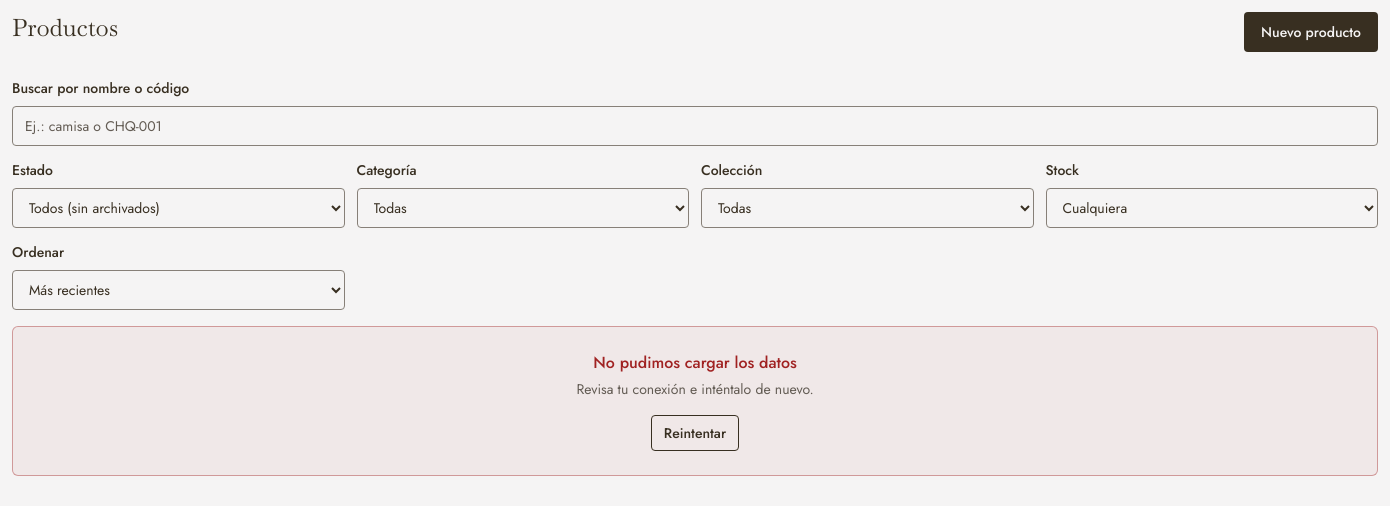
ProductsListPage › si el servidor falla muestra el error con reintento, y reintentar vuelve a pedir los datos
expect the message shows "No pudimos cargar los datos": met, box [593,351,797,374]
Click the button "Reintentar" at [695, 433], box [651,415,739,451]
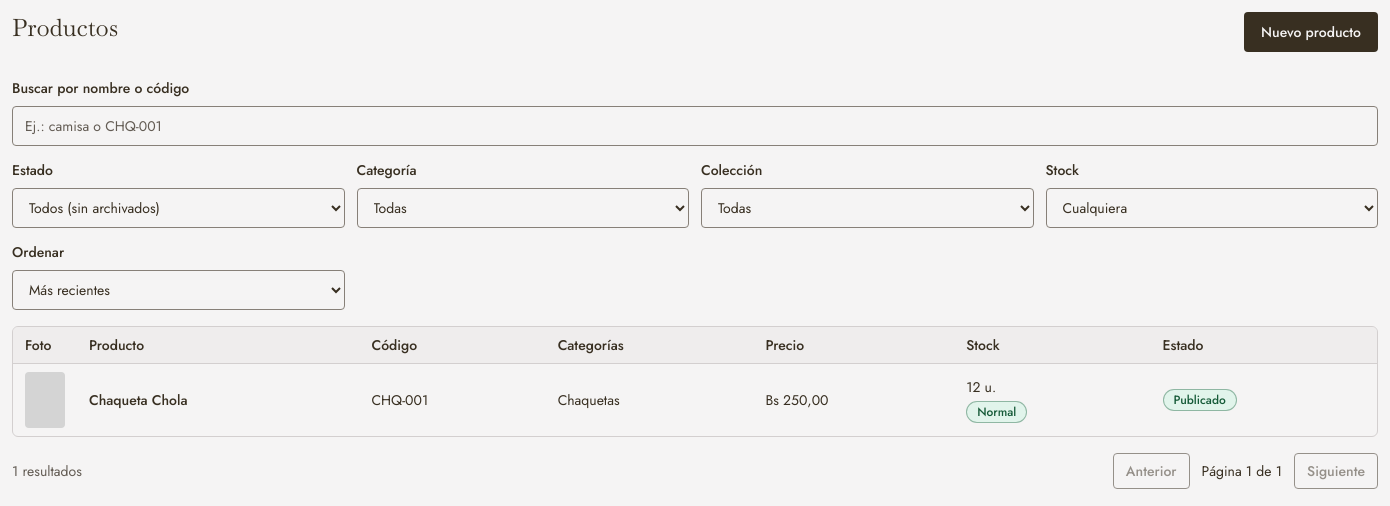
expect the table is shown: met, box [13,327,1377,436]
